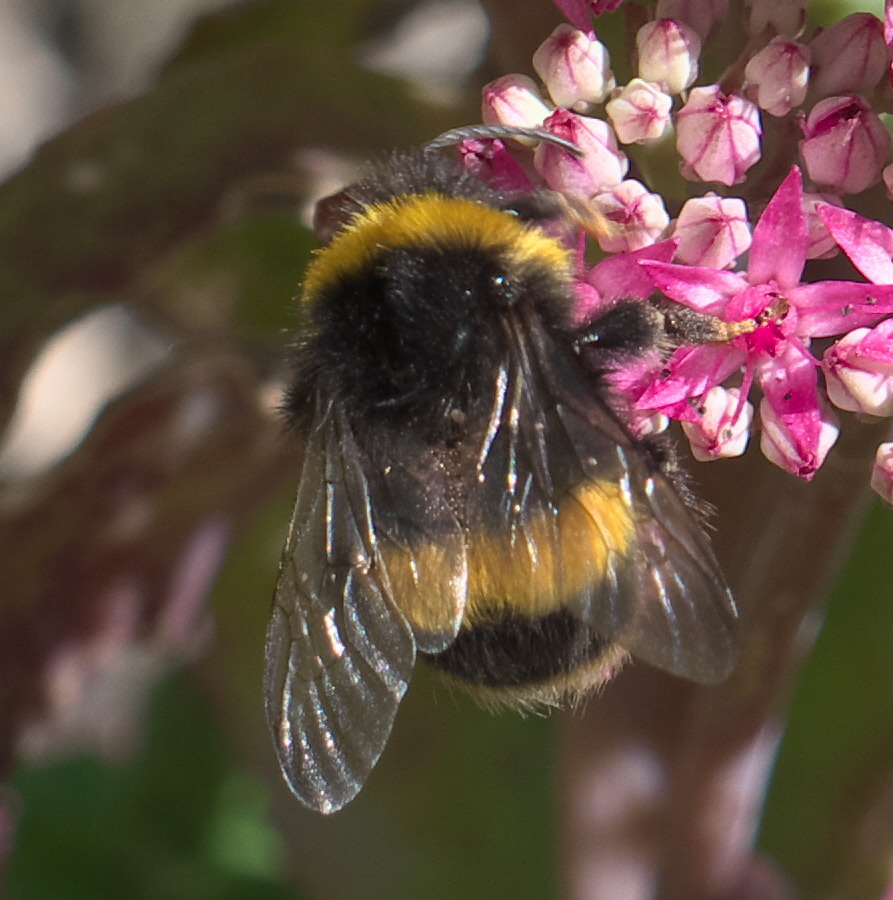bumblebee: (258, 162, 789, 818)
